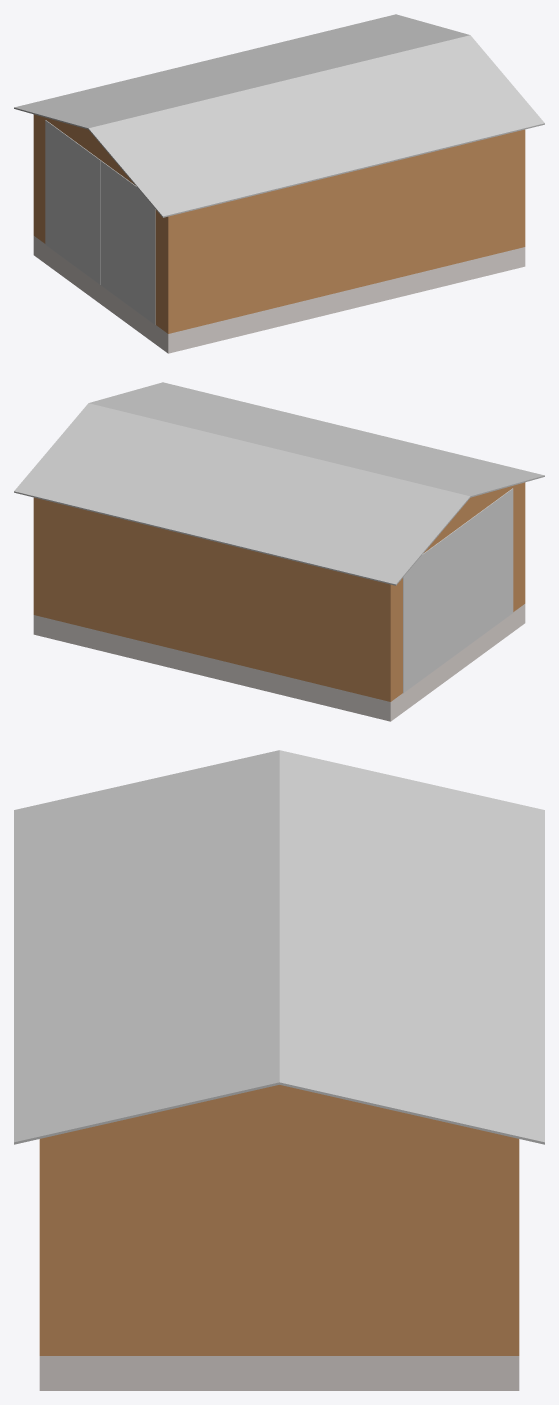
The model's file is Garage.dae.
3 renders of one model, top to bottom at view 1: azimuth 30°, elevation 25°; view 2: azimuth 150°, elevation 25°; view 3: azimuth 270°, elevation 25°, orthographic. The views are drawn at different scales.
Parts seen in each view (by area): view 1: component4, component7, component8, Куб.001, Куб, component1; view 2: component4, component7, component8, Куб, Куб.001, component1; view 3: component4, component7, component8, component1.
Part boxes in pixels (x1,y1,x2,y2): component4: [14, 14, 544, 216]; component7: [33, 114, 525, 333]; component8: [33, 236, 525, 353]; Куб.001: [45, 120, 100, 284]; Куб: [100, 160, 155, 324]; component1: [14, 107, 544, 217]; component4: [14, 382, 544, 584]; component7: [33, 482, 525, 701]; component8: [33, 604, 525, 721]; Куб: [458, 488, 513, 652]; Куб.001: [403, 528, 458, 693]; component1: [14, 475, 544, 585]; component4: [14, 750, 544, 1142]; component7: [39, 1085, 519, 1355]; component8: [39, 1356, 519, 1390]; component1: [14, 1082, 544, 1144].
Bounding box in the file's own units: 6.1 × 4.12 × 2.73.
